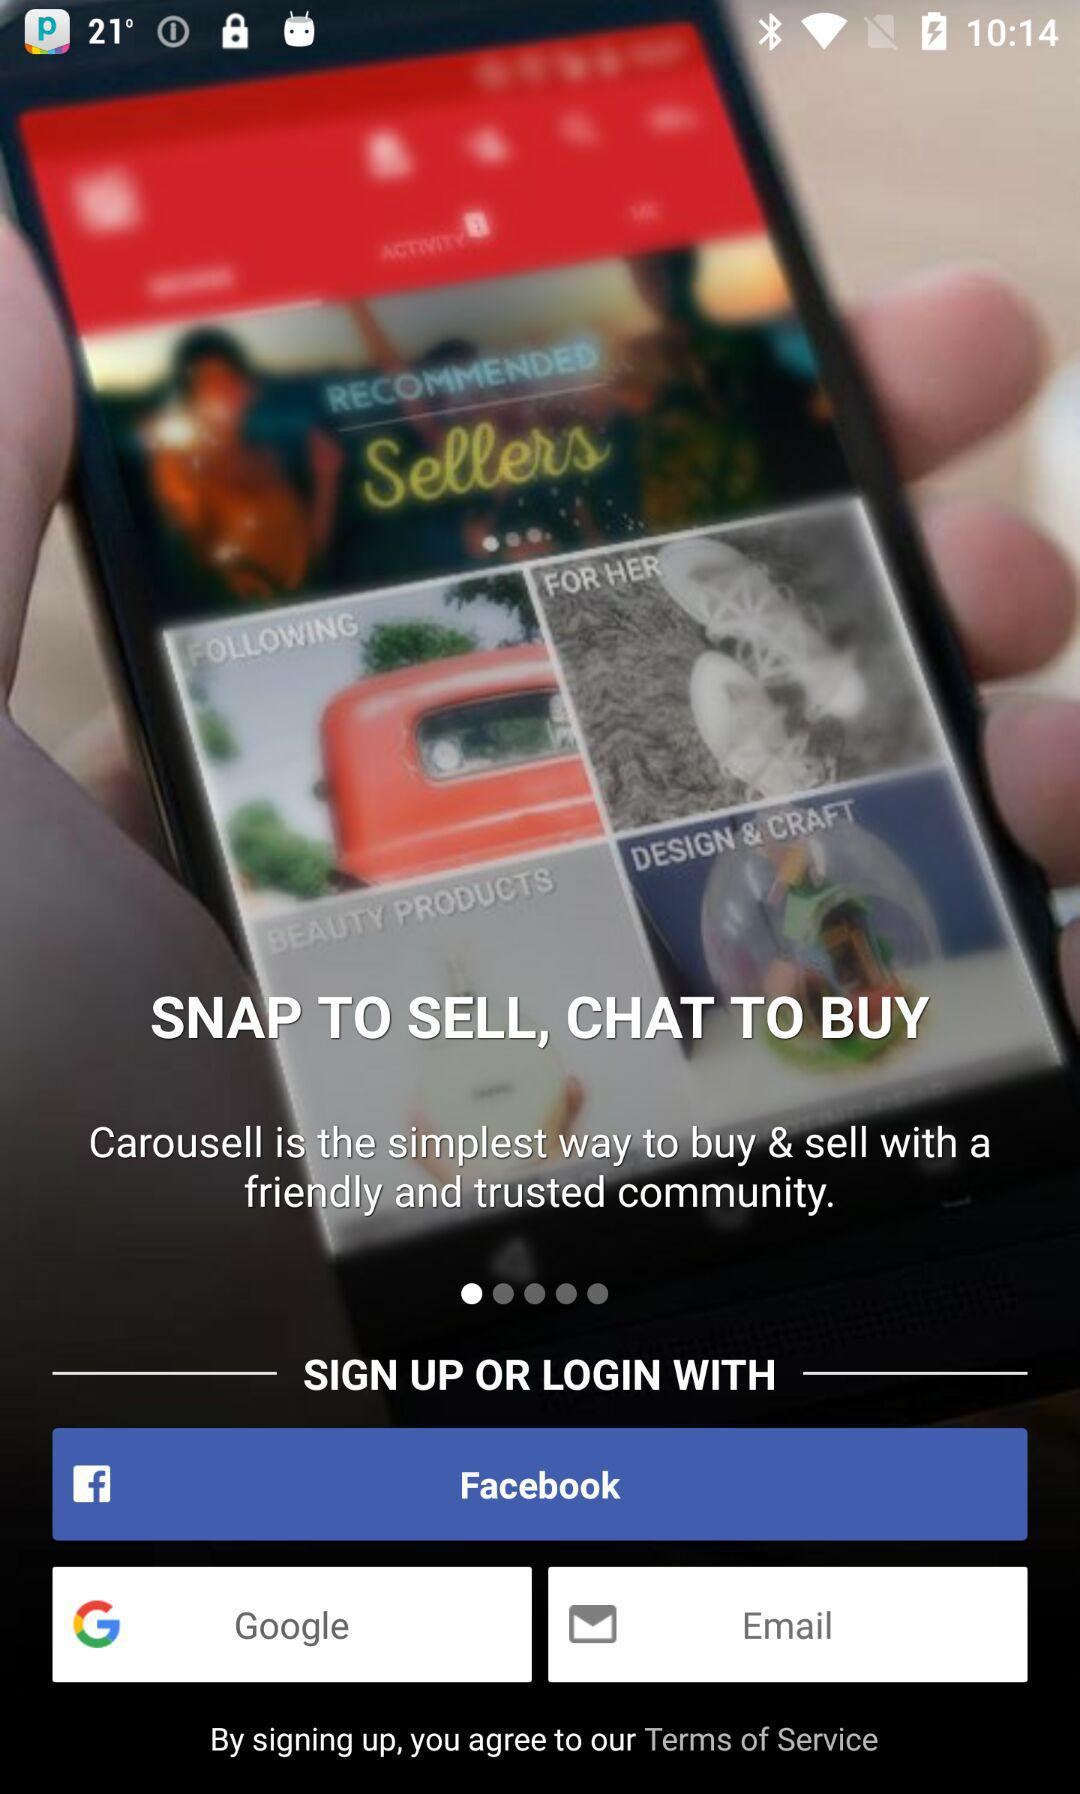BackgroundImage: (1, 56, 1077, 1794)
PageIndicator: (459, 1281, 611, 1307)
Text: (90, 1124, 992, 1219), (150, 994, 931, 1051), (211, 1726, 879, 1758), (304, 1358, 776, 1393)
TextButton: (53, 1428, 1029, 1542), (53, 1567, 533, 1683), (548, 1567, 1027, 1683)
UpperTaskBar: (1, 1, 1080, 56)
